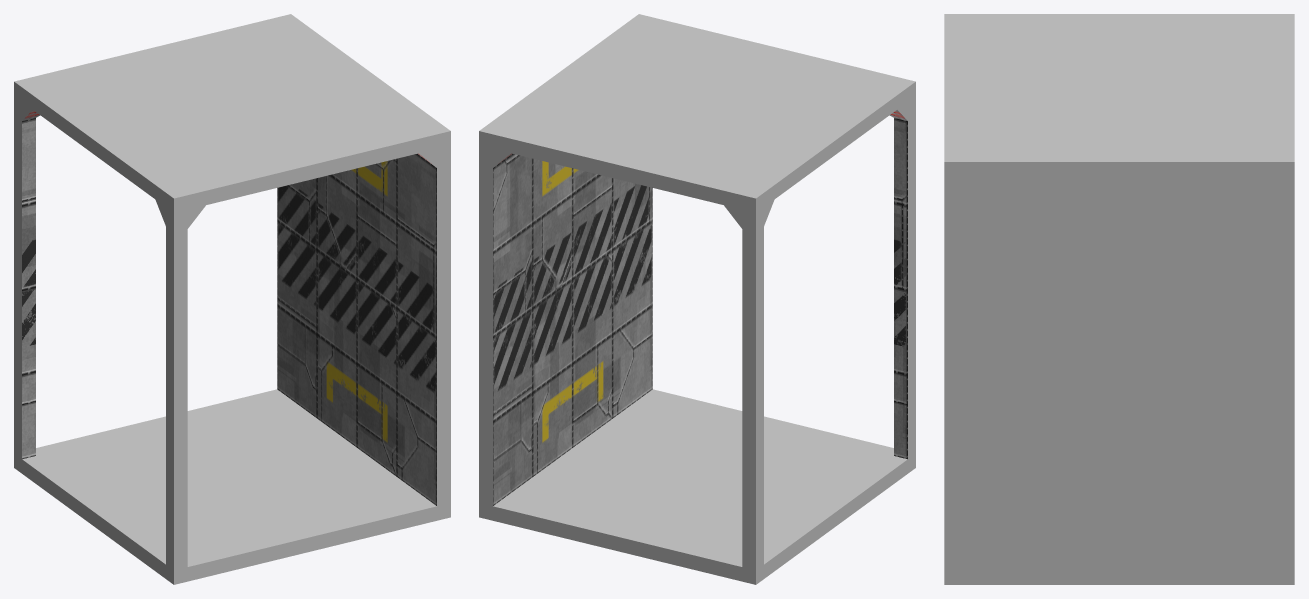
3 views of the same model, side by side, from view 1: azimuth 30°, elevation 25°; view 2: azimuth 150°, elevation 25°; view 3: azimuth 270°, elevation 25° (orthographic). The views are drawn at different scales.
Visible parts, largest first — view 1: Body.002; view 2: Body.002; view 3: Body.002.
Part boxes in pixels (<box>): Body.002: <box>14,14,450,584</box>; Body.002: <box>479,14,915,584</box>; Body.002: <box>944,14,1294,584</box>.
Bounding box in the file's own units: 1.5 × 2 × 1.5.
Materials: 3 (2 with a texture image).
